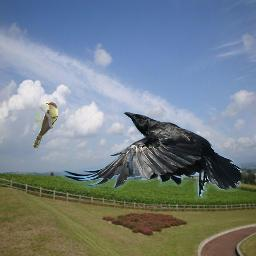Crow: (59, 110, 241, 199)
Cuckoo: (33, 102, 58, 148)
